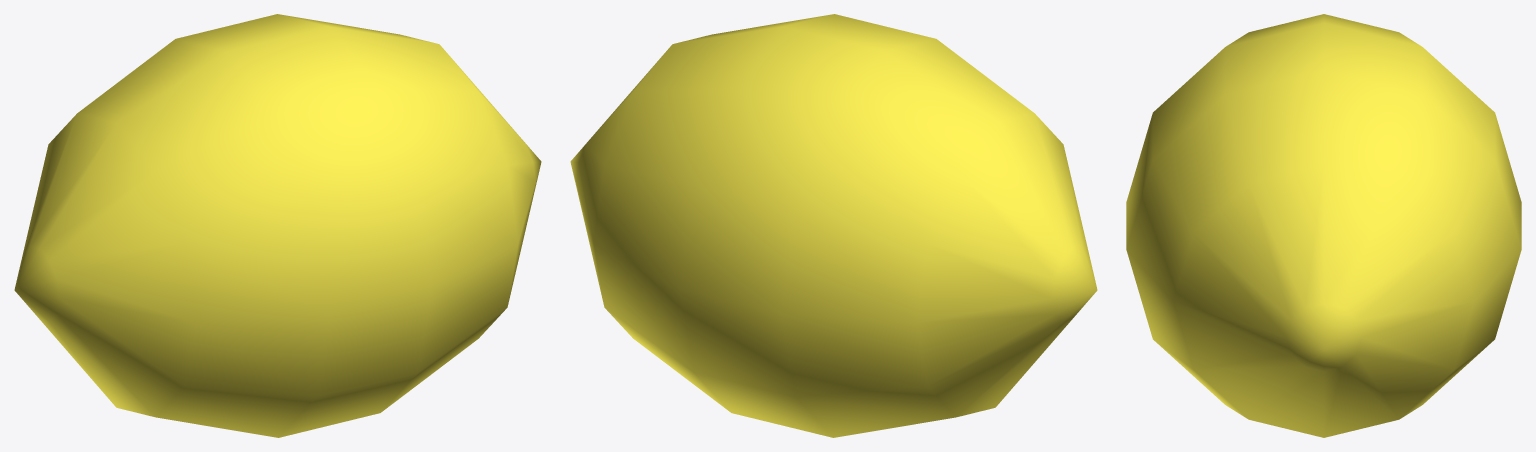
The model's file is Lemon.fbx.
3 renders of one model, left to right at view 1: azimuth 30°, elevation 25°; view 2: azimuth 150°, elevation 25°; view 3: azimuth 270°, elevation 25°, orthographic. The views are drawn at different scales.
Visible parts, largest first — view 1: Lemon; view 2: Lemon; view 3: Lemon.
Part boxes in pixels (box(x1,y1,x2,y2)): Lemon: box(14, 14, 541, 437); Lemon: box(570, 14, 1097, 437); Lemon: box(1126, 14, 1521, 437).
Size of the model in its own units: 1.24 by 0.84 by 0.84.
Materials: 1 (1 with a texture image).
